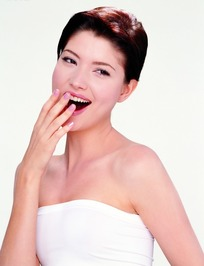face: (51, 31, 121, 129)
